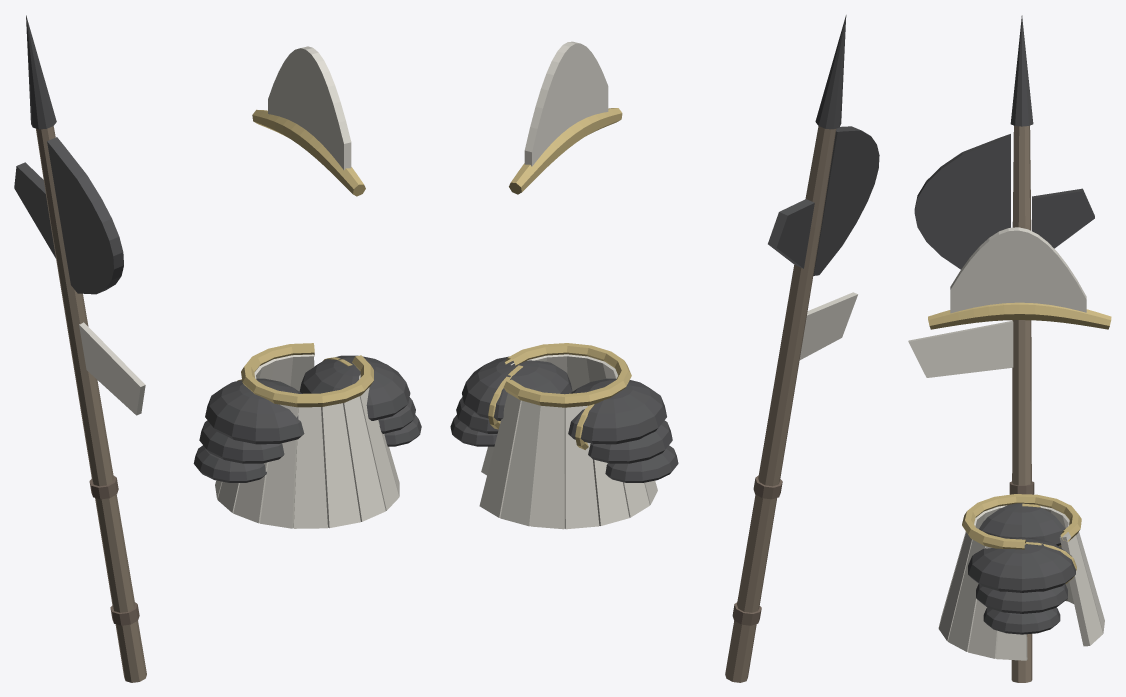
File: e3po_kit.glb
3 views of the same model, side by side, from view 1: azimuth 30°, elevation 25°; view 2: azimuth 150°, elevation 25°; view 3: azimuth 270°, elevation 25° (orthographic). The views are drawn at different scales.
Parts seen in each view (by area): view 1: E3PO_Mantle_cloth, E3PO_Halberd_steel, E3PO_Halberd_haft, E3PO_PauldronR_steel, E3PO_Crest_cloth, E3PO_PauldronL_steel, E3PO_Mantle_brass, E3PO_Halberd_cloth, E3PO_Crest_brass, E3PO_Halberd_leather; view 2: E3PO_Mantle_cloth, E3PO_Halberd_haft, E3PO_Halberd_steel, E3PO_PauldronR_steel, E3PO_Crest_cloth, E3PO_PauldronL_steel, E3PO_Mantle_brass, E3PO_Crest_brass, E3PO_Halberd_cloth, E3PO_Halberd_leather; view 3: E3PO_Halberd_steel, E3PO_Crest_cloth, E3PO_PauldronL_steel, E3PO_Mantle_cloth, E3PO_Halberd_haft, E3PO_Halberd_cloth, E3PO_Crest_brass, E3PO_Mantle_brass, E3PO_PauldronR_steel.
Part boxes in pixels (bbox=[...]): E3PO_Mantle_cloth: bbox=[215, 354, 399, 528]; E3PO_Halberd_steel: bbox=[14, 15, 123, 294]; E3PO_Halberd_haft: bbox=[36, 126, 146, 682]; E3PO_PauldronR_steel: bbox=[193, 378, 304, 482]; E3PO_Crest_cloth: bbox=[268, 46, 351, 169]; E3PO_PauldronL_steel: bbox=[299, 355, 421, 446]; E3PO_Mantle_brass: bbox=[241, 343, 373, 407]; E3PO_Halberd_cloth: bbox=[79, 322, 145, 415]; E3PO_Crest_brass: bbox=[252, 109, 365, 196]; E3PO_Halberd_leather: bbox=[89, 476, 139, 625]; E3PO_Mantle_cloth: bbox=[479, 354, 657, 529]; E3PO_Halberd_haft: bbox=[725, 126, 836, 682]; E3PO_Halberd_steel: bbox=[768, 15, 879, 275]; E3PO_PauldronR_steel: bbox=[568, 378, 678, 482]; E3PO_Crest_cloth: bbox=[524, 41, 608, 166]; E3PO_PauldronL_steel: bbox=[450, 356, 572, 446]; E3PO_Mantle_brass: bbox=[503, 343, 631, 407]; E3PO_Crest_brass: bbox=[509, 108, 622, 194]; E3PO_Halberd_cloth: bbox=[799, 292, 857, 359]; E3PO_Halberd_leather: bbox=[732, 475, 782, 625]; E3PO_Halberd_steel: bbox=[914, 15, 1094, 269]; E3PO_Crest_cloth: bbox=[950, 227, 1086, 313]; E3PO_PauldronL_steel: bbox=[968, 537, 1075, 634]; E3PO_Mantle_cloth: bbox=[938, 505, 1104, 660]; E3PO_Halberd_haft: bbox=[1011, 125, 1032, 682]; E3PO_Halberd_cloth: bbox=[908, 320, 1013, 377]; E3PO_Crest_brass: bbox=[928, 302, 1111, 329]; E3PO_Mantle_brass: bbox=[962, 494, 1081, 549]; E3PO_PauldronR_steel: bbox=[979, 503, 1065, 546].
Size of the model in its own units: 1.99 by 3.37 by 1.
